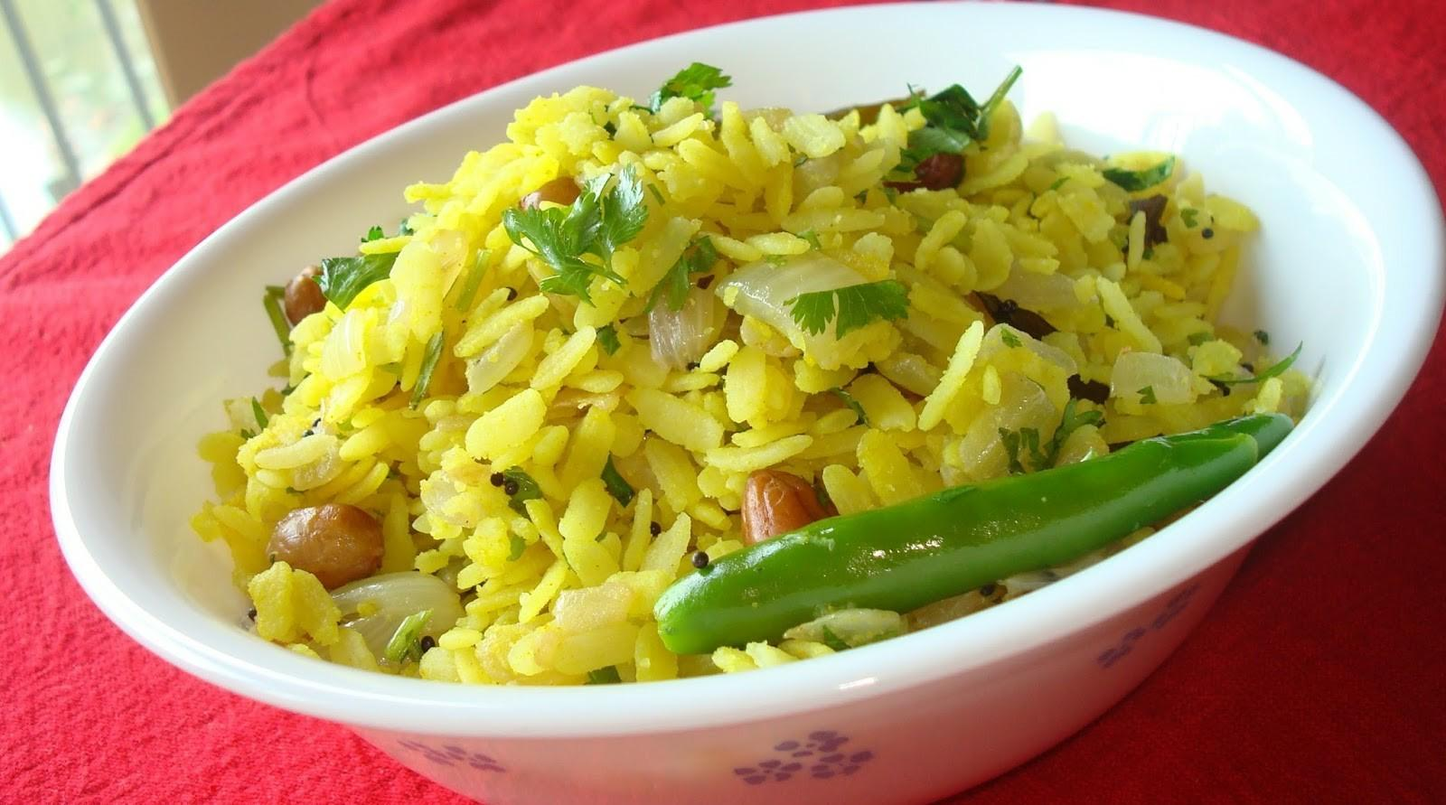Poha: (185, 62, 1309, 688)
